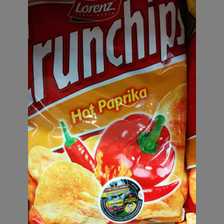chips: (28, 1, 191, 224)
